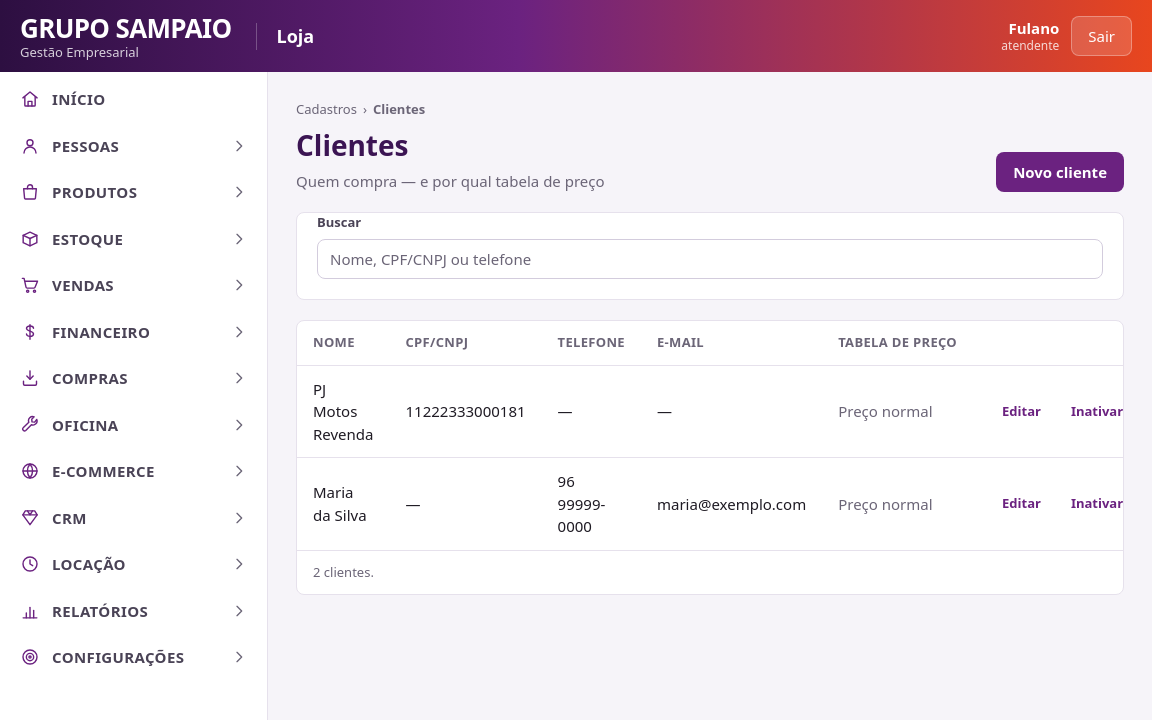
Scenario: editar a ficha › o formulário abre preenchido pela FICHA do servidor, não pela linha da lista
The width and height of the screenshot is (1152, 720).
Click the button with aria-label "Editar cadastro de Maria da Silva" at (1021, 504), box 989,487 -> 1054,520
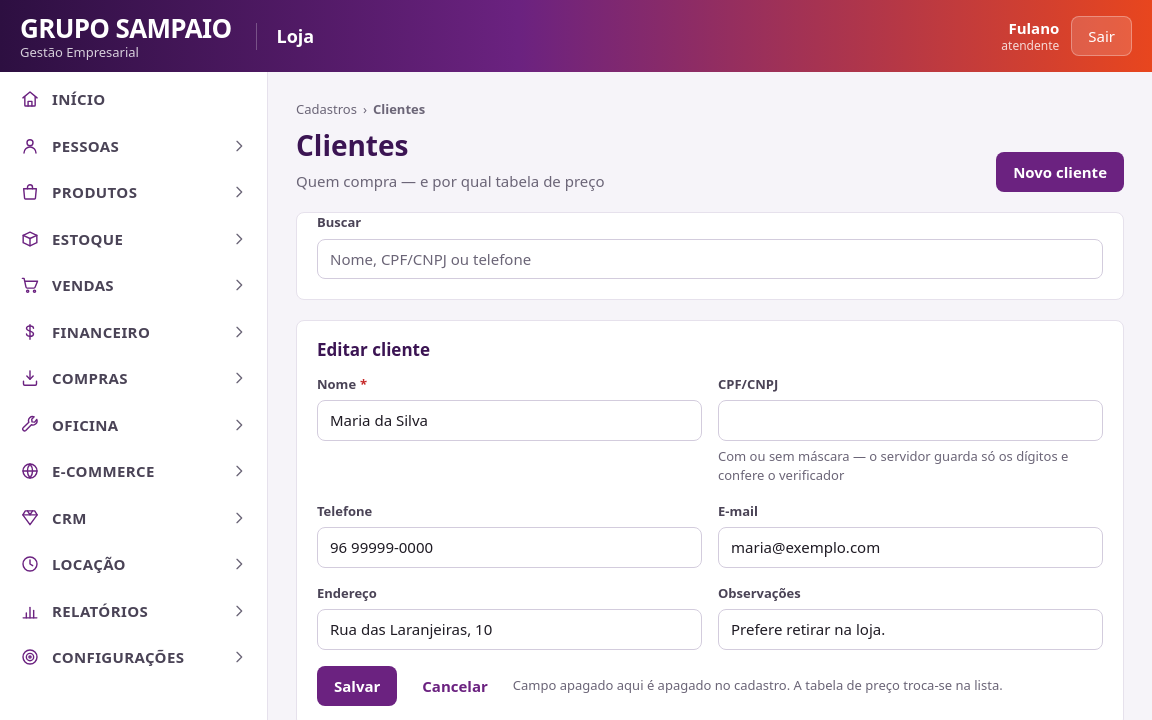
Result: the field labelled "Telefone" holds "96 99999-0000" at 317,527 -> 702,568
Result: the field labelled "Endereço" holds "Rua das Laranjeiras, 10" at 317,609 -> 702,650
Result: the field labelled "Observações" holds "Prefere retirar na loja." at 718,609 -> 1103,650
